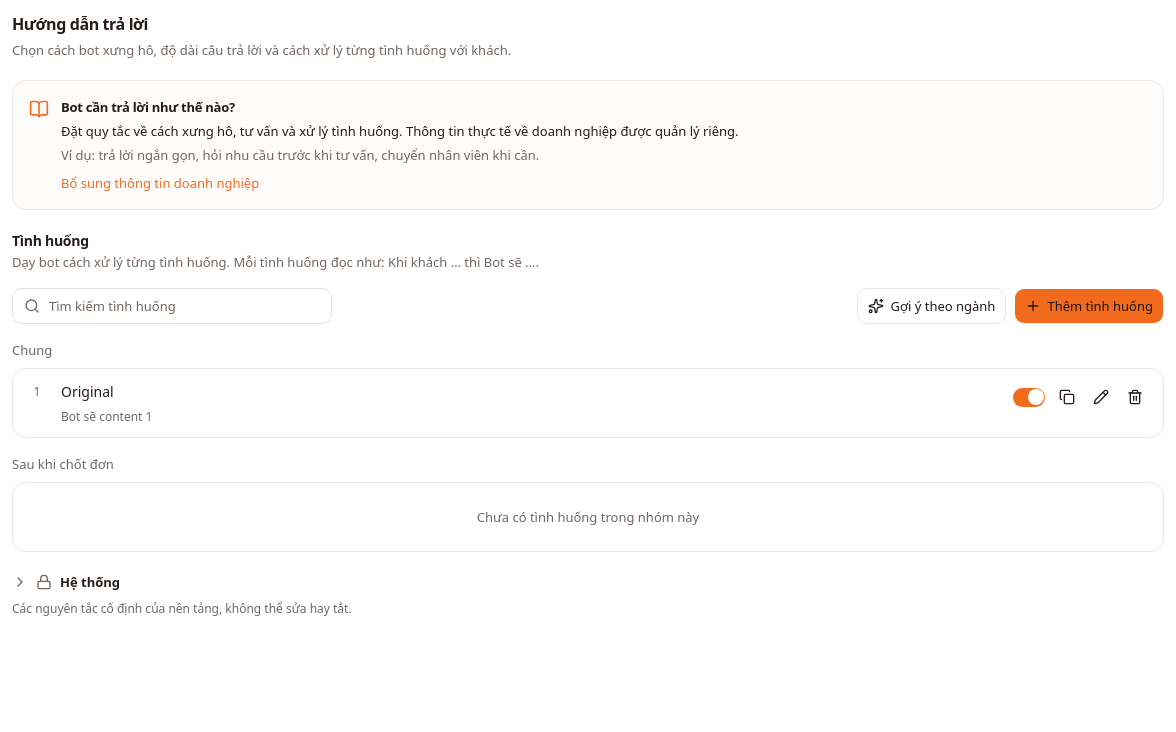
Test: RulesList › disables the copy buttons while a save is pending
The image size is (1176, 732).
Click the button named "Nhân bản" at x=1067, y=397, box [1051,381,1083,413]
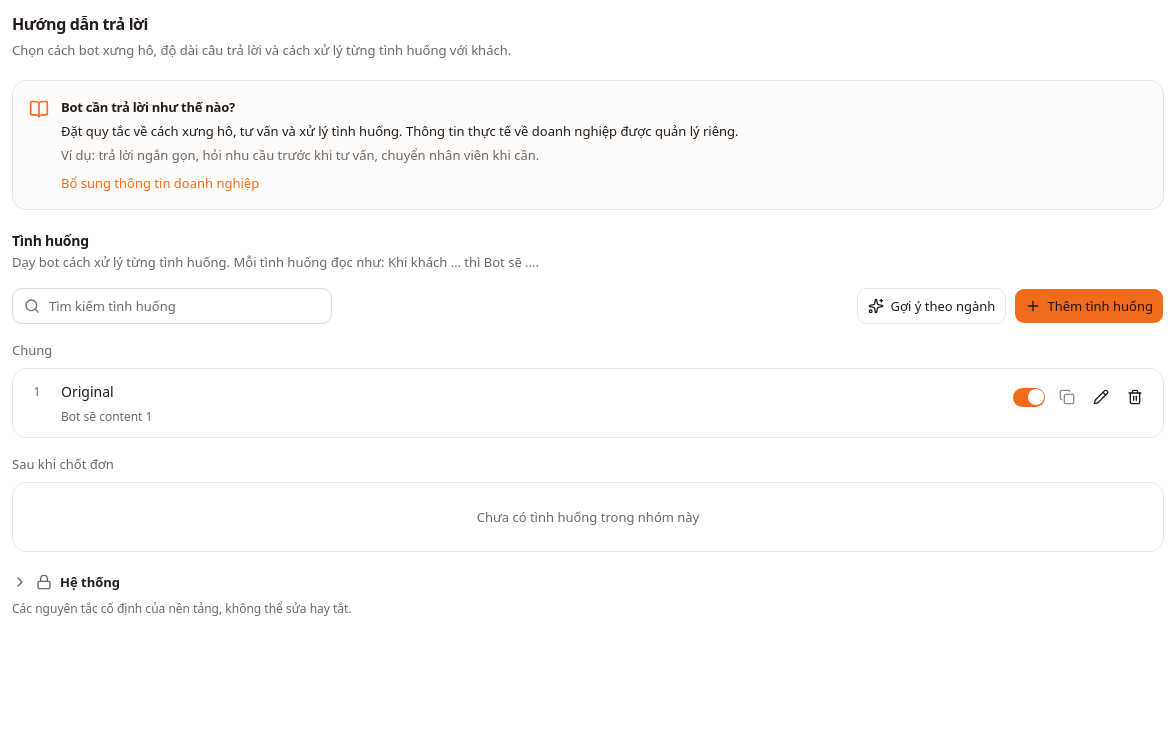
expect the button named "Nhân bản" is disabled: met
Click the button named "Nhân bản" at x=1067, y=397, box [1051,381,1083,413]
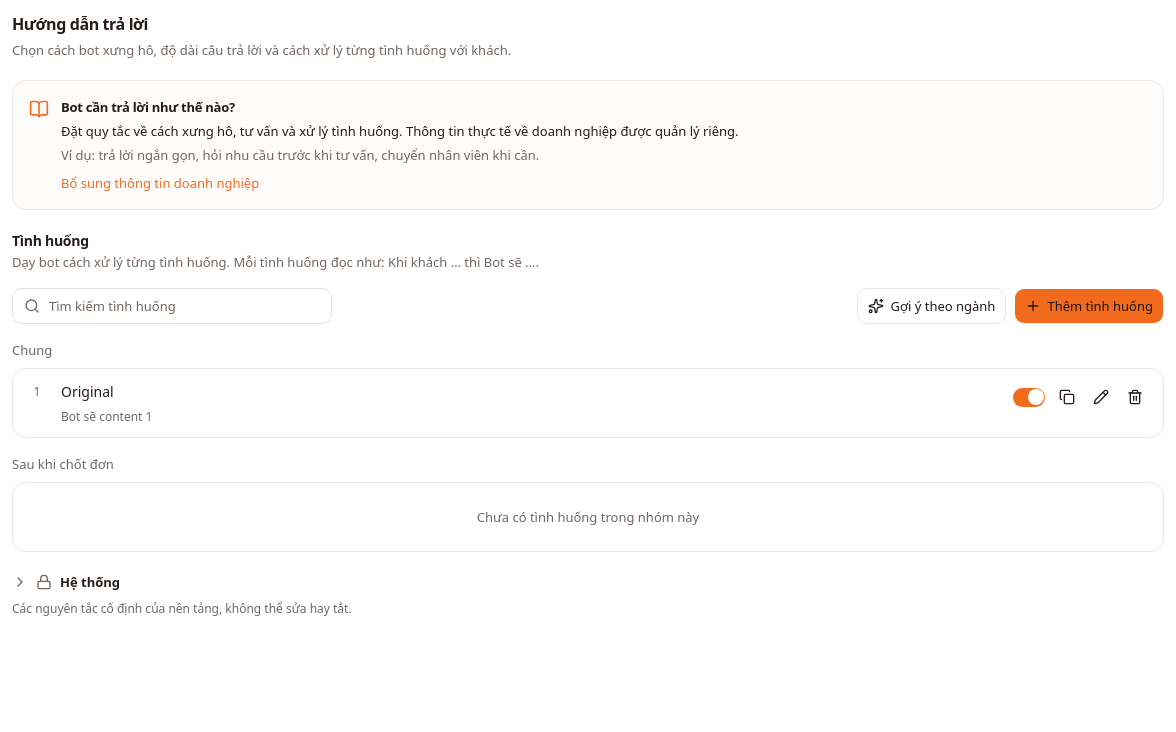
expect the button named "Nhân bản" is enabled: met, box [1051,381,1083,413]
